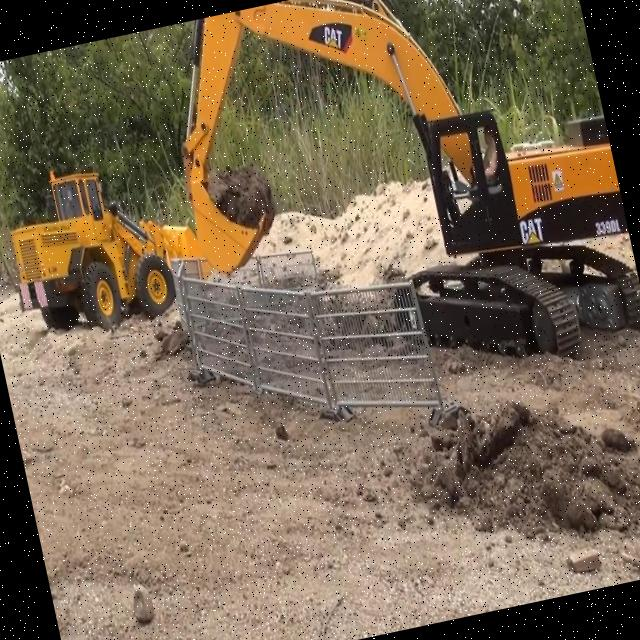Excavator: (148, 0, 640, 435)
Loader: (0, 137, 217, 356)
